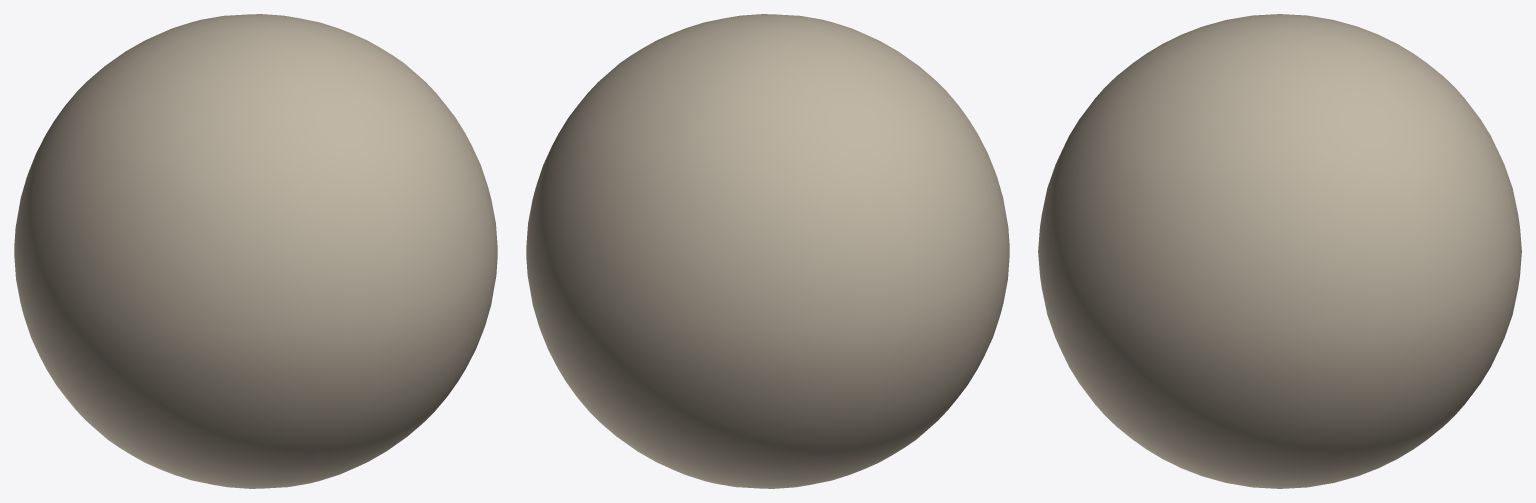
The model's file is CompareNormalRight.glb.
3 views of the same model, side by side, from view 1: azimuth 30°, elevation 25°; view 2: azimuth 150°, elevation 25°; view 3: azimuth 270°, elevation 25° (orthographic).
Parts seen in each view (by area): view 1: Sphere002; view 2: Sphere002; view 3: Sphere002.
Boxes of the visible parts, x1,y1,x2,y2 form: Sphere002: (14, 14, 497, 488); Sphere002: (526, 14, 1009, 488); Sphere002: (1038, 14, 1521, 488).
Size of the model in its own units: 1 by 0.9803 by 1.
